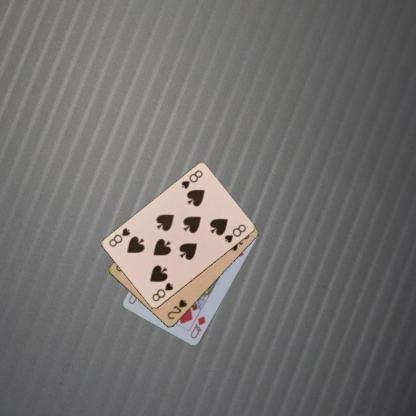2s: (164, 296, 189, 320)
8s: (149, 280, 175, 303), (178, 168, 204, 191)
Qd: (188, 314, 207, 340)
